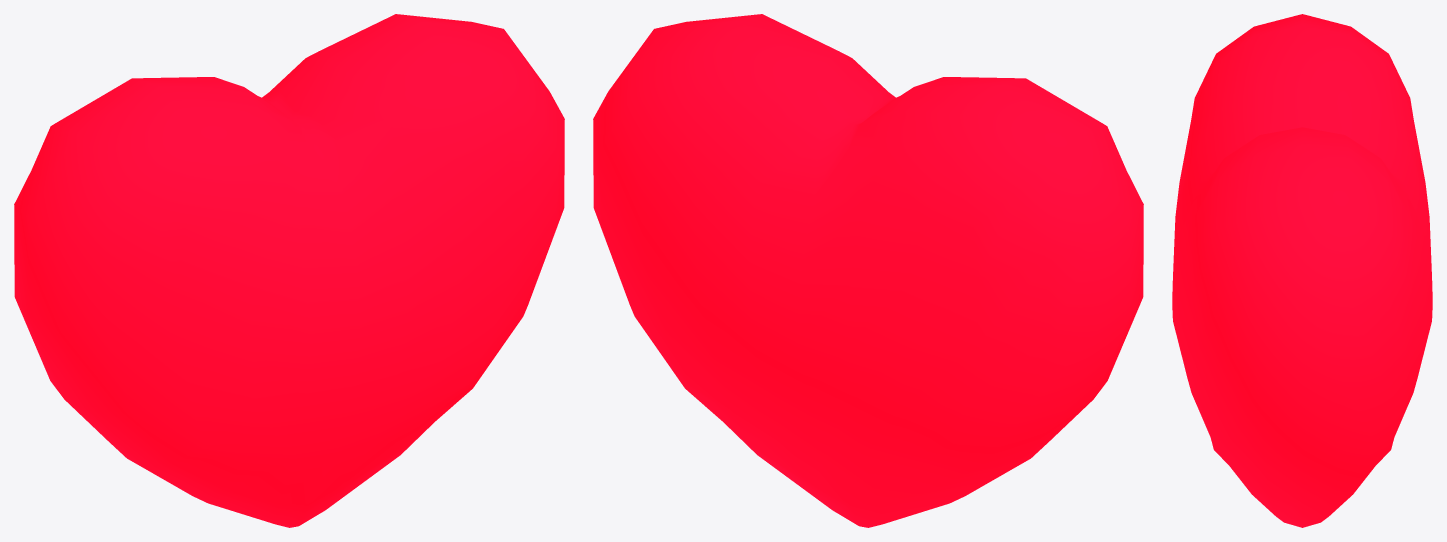
Rendered from heart.fbx.
3 views of the same model, side by side, from view 1: azimuth 30°, elevation 25°; view 2: azimuth 150°, elevation 25°; view 3: azimuth 270°, elevation 25° (orthographic). The views are drawn at different scales.
Parts seen in each view (by area): view 1: Vert; view 2: Vert; view 3: Vert.
Boxes of the visible parts, x1,y1,x2,y2 form: Vert: (14, 14, 564, 527); Vert: (593, 14, 1143, 527); Vert: (1172, 14, 1432, 527).
Size of the model in its own units: 17.68 by 15.29 by 8.17.
